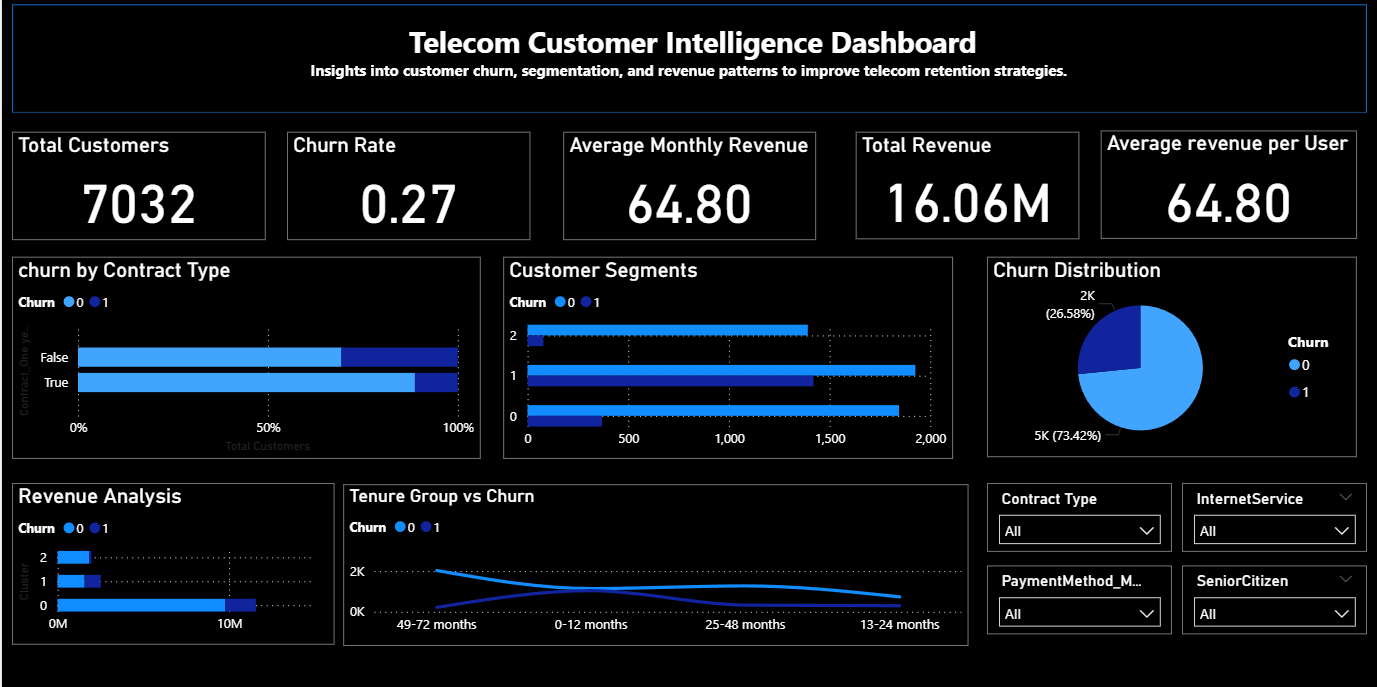

The page's visual inventory and layout, read from the dashboard file:
{"tool":"powerbi","page":{"name":"Page 1","canvas":[1280,720],"ordinal":0},"visuals":[{"type":"shape","box":[9.3,15.1,1260.5,101.2],"z":0},{"type":"textbox","box":[275.6,26.7,726.7,79.1],"z":1000},{"type":"card","title":"Total Customers","fields":{"Values":["CountNonNull(telecom_cleaned.Contract_One year)"]},"box":[9.3,133.7,236,101.2],"z":2000},{"type":"card","title":"Churn Rate","fields":{"Values":["telecom_cleaned.Churn Rate"]},"box":[265.1,133.7,226.7,101.2],"z":3000},{"type":"card","title":"Average Monthly Revenue","fields":{"Values":["Avg(telecom_cleaned.MonthlyCharges)"]},"box":[522.1,133.7,234.9,101.2],"z":4000},{"type":"pieChart","title":"Churn Distribution","fields":{"Category":["telecom_cleaned.Churn"],"Y":["telecom_cleaned.Total Customers"]},"box":[916.3,250,344.2,186],"z":5000},{"type":"hundredPercentStackedBarChart","title":"churn by Contract Type","fields":{"Category":["telecom_cleaned.Contract_One year"],"Series":["telecom_cleaned.Churn"],"Y":["telecom_cleaned.Total Customers"]},"box":[9.3,250,436,188.4],"z":6000},{"type":"clusteredBarChart","title":"Customer Segments","fields":{"Category":["telecom_cleaned.Cluster"],"Y":["CountNonNull(telecom_cleaned.Contract_One year)"],"Series":["telecom_cleaned.Churn"]},"box":[466.3,250,418.6,188.4],"z":7000},{"type":"barChart","title":"Revenue Analysis","fields":{"Y":["Sum(telecom_cleaned.TotalCharges)"],"Category":["telecom_cleaned.Cluster"],"Series":["telecom_cleaned.Churn"]},"box":[9.3,460.5,300,150],"z":8000},{"type":"card","title":"Total Revenue","fields":{"Values":["telecom_cleaned.Total Revenue"]},"box":[794.2,133.7,208.1,100],"z":9000},{"type":"lineChart","title":" Tenure Group vs Churn","fields":{"Series":["telecom_cleaned.Churn"],"Y":["telecom_cleaned.Customer Count"],"Category":["telecom_cleaned.Tenure Group"]},"box":[317.4,461.6,581.4,150],"z":10000},{"type":"card","title":"Average revenue per User","fields":{"Values":["telecom_cleaned.ARPU"]},"box":[1022.1,132.6,238.4,101.2],"z":11000},{"type":"slicer","fields":{"Values":["telecom_cleaned.Contract_Two year"]},"box":[916.3,460.5,172.1,64],"z":12000},{"type":"slicer","fields":{"Values":["telecom_cleaned.InternetService_Fiber optic"]},"box":[1097.7,460.5,172.1,64],"z":13000},{"type":"slicer","fields":{"Values":["telecom_cleaned.PaymentMethod_Mailed check"]},"box":[916.3,537.2,172.1,64],"z":14000},{"type":"slicer","fields":{"Values":["telecom_cleaned.SeniorCitizen"]},"box":[1097.7,537.2,172.1,64],"z":15000}]}

Visuals, with their boxes on the page's 1280x720 design canvas (x1, y1, x2, y2). These are canvas units, not pixel positions in the 1377x687 screenshot, which may show the page scaled, cropped or inside an application window:
shape: x1=9, y1=15, x2=1270, y2=116
textbox: x1=276, y1=27, x2=1002, y2=106
"Total Customers" card: x1=9, y1=134, x2=245, y2=235
"Churn Rate" card: x1=265, y1=134, x2=492, y2=235
"Average Monthly Revenue" card: x1=522, y1=134, x2=757, y2=235
"Churn Distribution" pieChart: x1=916, y1=250, x2=1260, y2=436
"churn by Contract Type" hundredPercentStackedBarChart: x1=9, y1=250, x2=445, y2=438
"Customer Segments" clusteredBarChart: x1=466, y1=250, x2=885, y2=438
"Revenue Analysis" barChart: x1=9, y1=460, x2=309, y2=610
"Total Revenue" card: x1=794, y1=134, x2=1002, y2=234
" Tenure Group vs Churn" lineChart: x1=317, y1=462, x2=899, y2=612
"Average revenue per User" card: x1=1022, y1=133, x2=1260, y2=234
slicer - telecom_cleaned.Contract_Two year: x1=916, y1=460, x2=1088, y2=524
slicer - telecom_cleaned.InternetService_Fiber optic: x1=1098, y1=460, x2=1270, y2=524
slicer - telecom_cleaned.PaymentMethod_Mailed check: x1=916, y1=537, x2=1088, y2=601
slicer - telecom_cleaned.SeniorCitizen: x1=1098, y1=537, x2=1270, y2=601
